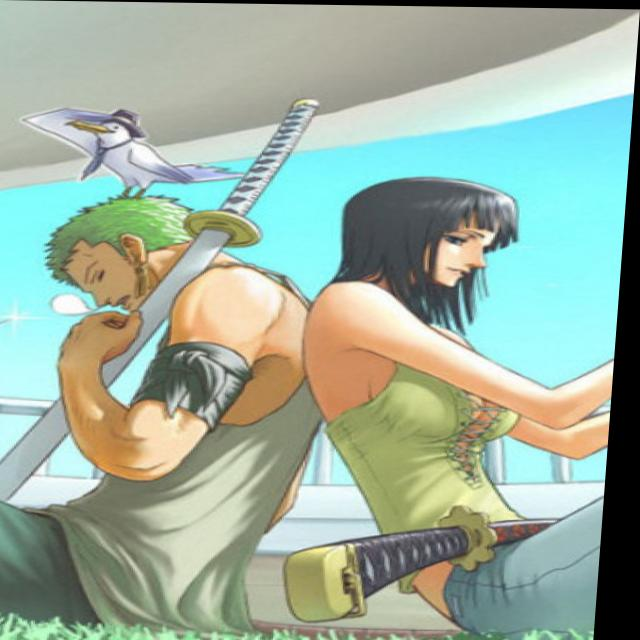NicoRobin: (331, 162, 556, 331)
Zoro: (32, 185, 230, 343)
